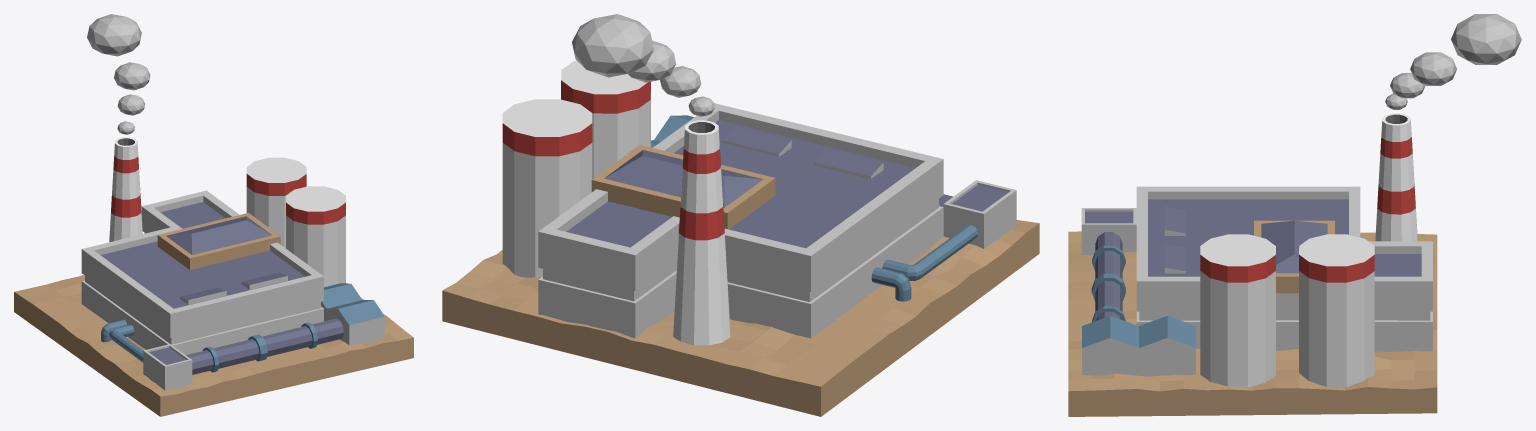
Rendered from Factory.fbx.
3 renders of one model, left to right at view 1: azimuth 30°, elevation 25°; view 2: azimuth 150°, elevation 25°; view 3: azimuth 270°, elevation 25°, orthographic. The views are drawn at different scales.
Visible parts, largest first — view 1: Factory; view 2: Factory; view 3: Factory.
Part boxes in pixels (x1,y1,x2,y2): Factory: (14, 14, 413, 416); Factory: (442, 14, 1039, 416); Factory: (1068, 14, 1521, 416).
Bounding box in the file's own units: 660 × 627 × 811.
